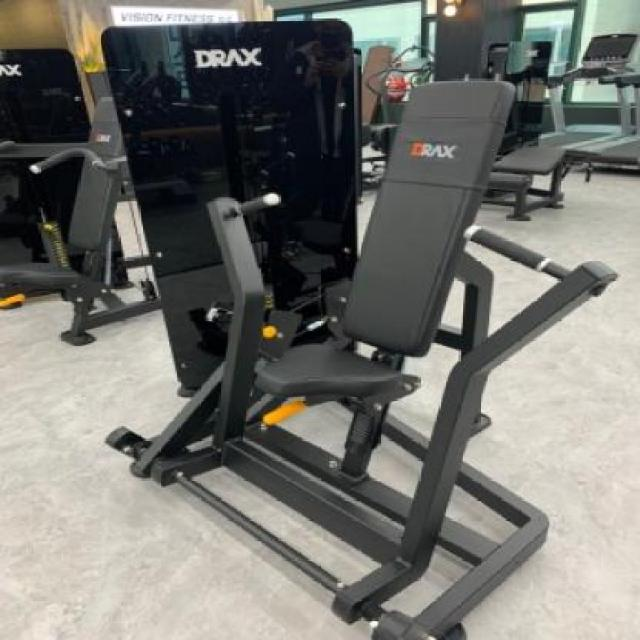Chest Press machine: (80, 6, 626, 640)
